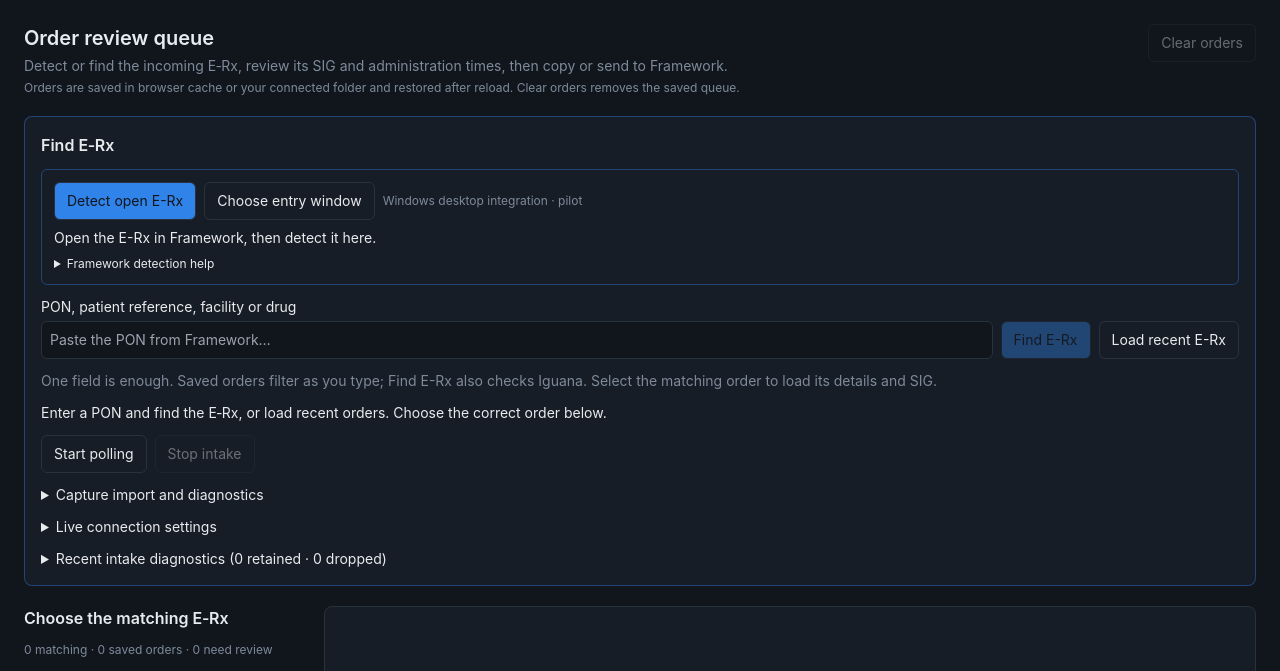
Test case: connector through queue UI › offers an older search without requesting another field and never moves the polling cursor for a lookup
Later steps or results of the test are not shown.
Type "DEMO-PON-1" into the field labelled "PON, patient reference, facility or drug".
click(517, 340); type("DEMO-PON-1")  # box [41,321,993,359]
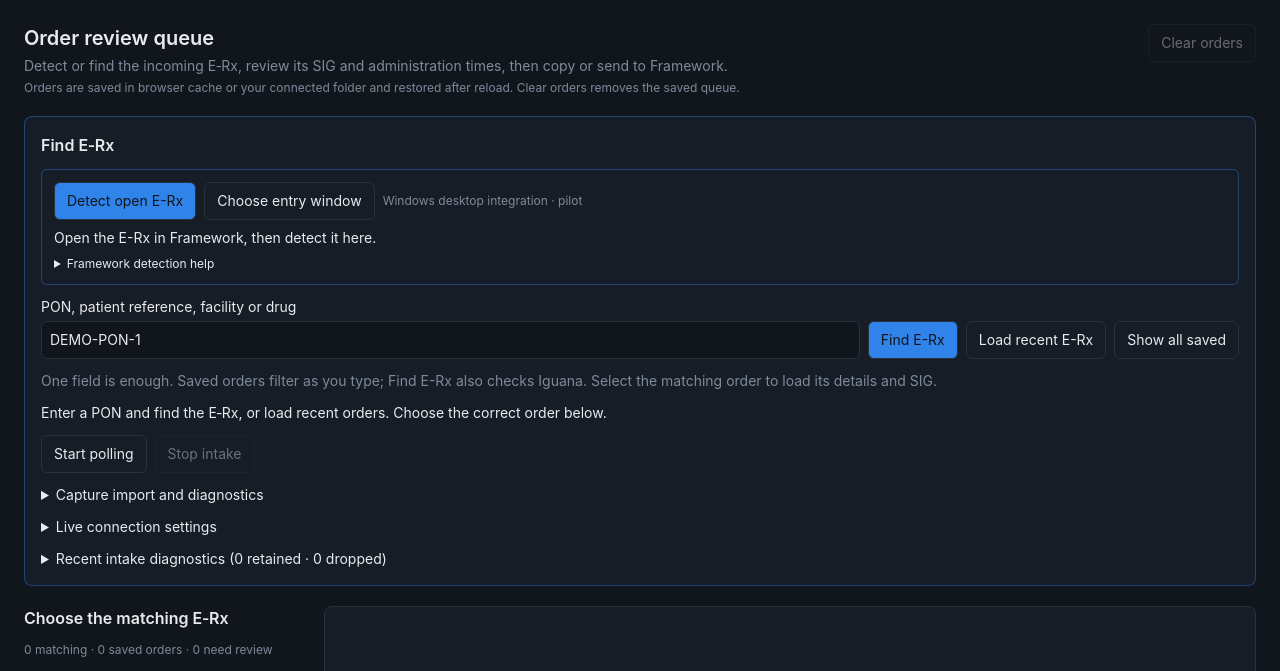
Click the button "Find E-Rx".
click(913, 340)  # box [868,321,958,359]
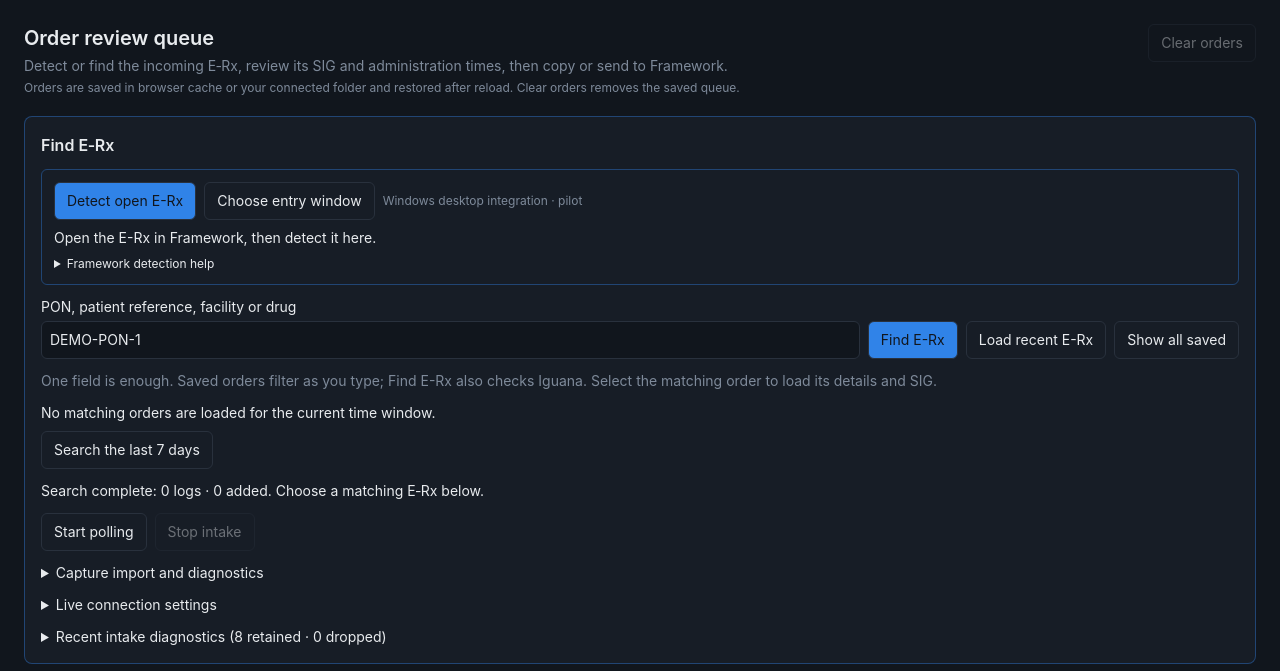
Check: the text "No matching orders are loaded for the current time window." is shown, box [41,404,435,421]
Click the button "Search the last 7 days".
click(127, 450)  # box [41,431,213,469]
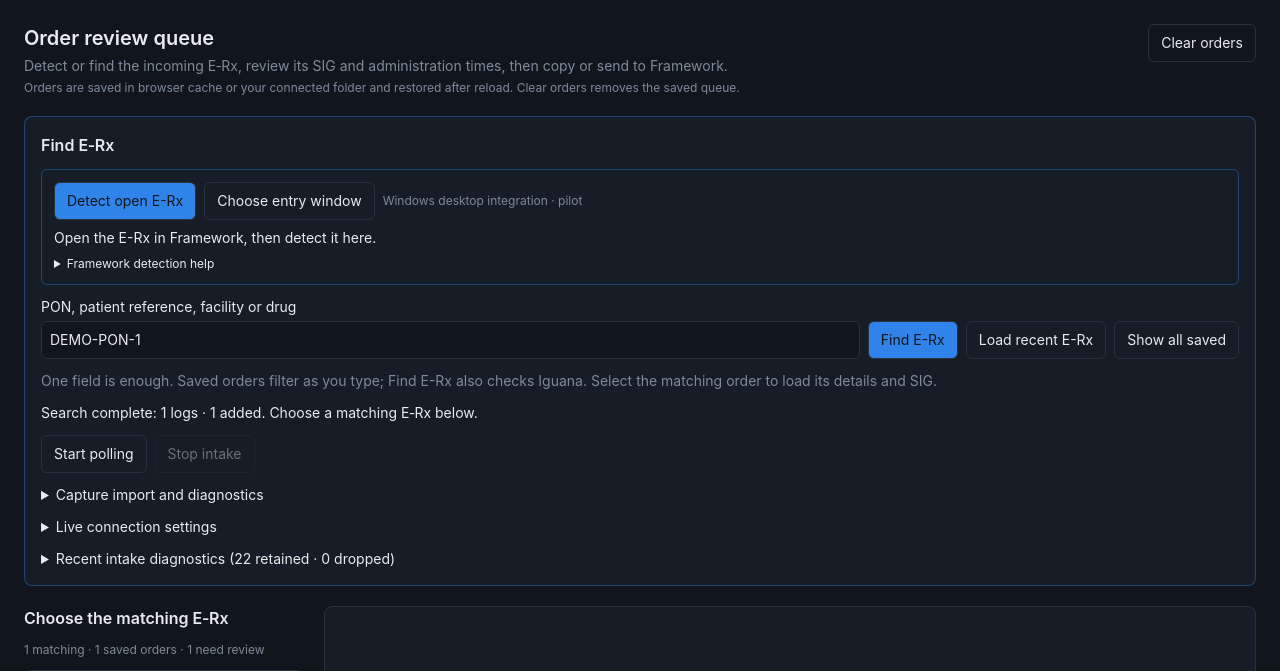
Check: the text "Search complete: 1 logs · 1 added. Choose a matching E‑Rx below." is shown, box [41,404,478,421]
